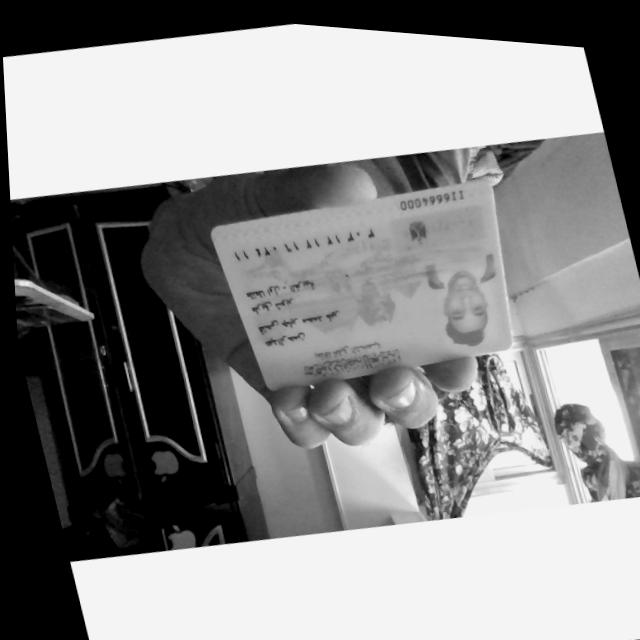front: (210, 180, 512, 389)
